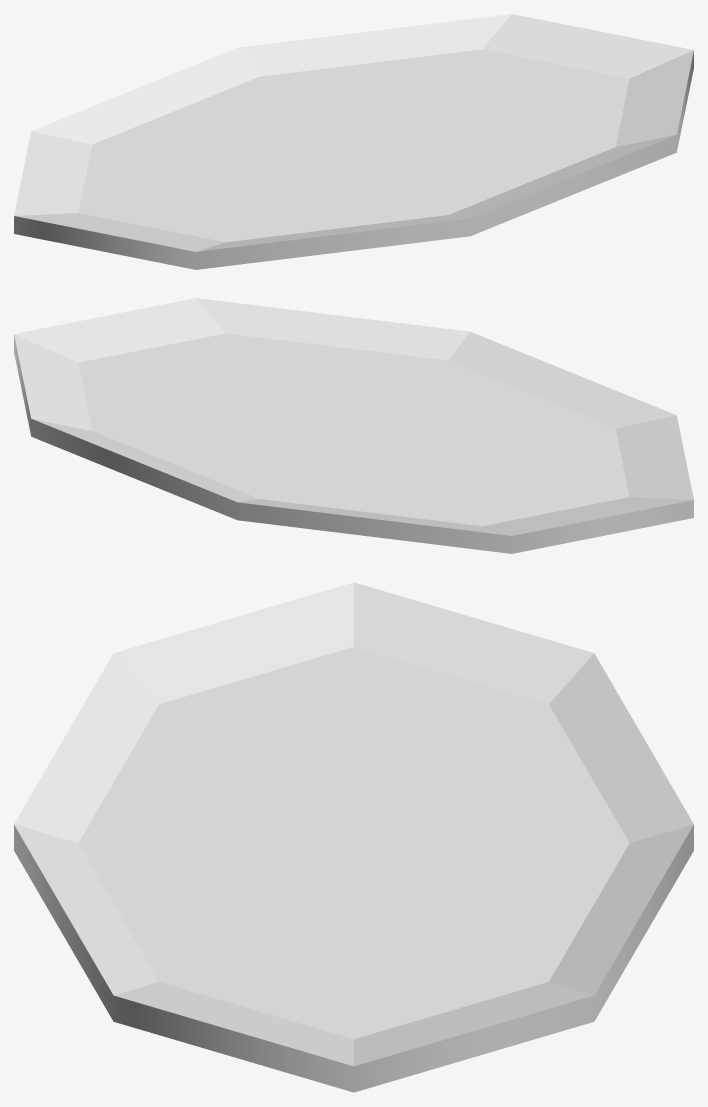
Rendered from Itr_Obj_dish3_01.FBX.
3 renders of one model, top to bottom at view 1: azimuth 30°, elevation 25°; view 2: azimuth 150°, elevation 25°; view 3: azimuth 270°, elevation 25°, orthographic. The views are drawn at different scales.
Visible parts, largest first — view 1: Itr_Obj_dish3_01; view 2: Itr_Obj_dish3_01; view 3: Itr_Obj_dish3_01.
Part boxes in pixels (left/top/right/bottom): Itr_Obj_dish3_01: left=14, top=14, right=693, bottom=269; Itr_Obj_dish3_01: left=14, top=298, right=693, bottom=553; Itr_Obj_dish3_01: left=14, top=582, right=693, bottom=1092.
Size of the model in its own units: 21.8 by 0.9449 by 12.94.
